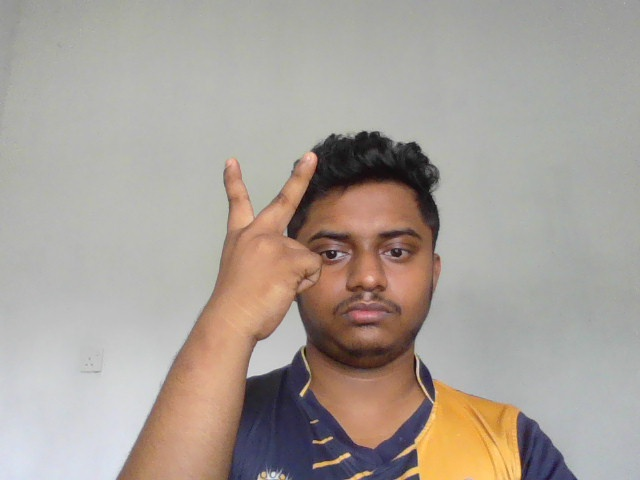See You: (195, 149, 330, 350)
